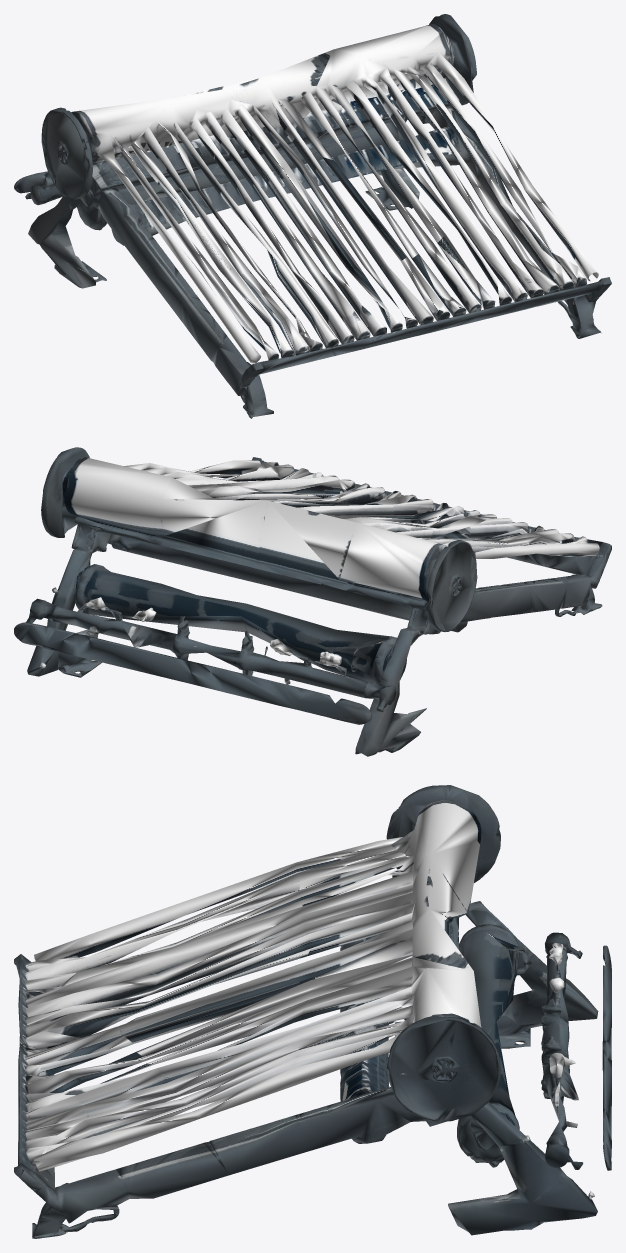
File: solar-wh.glb
3 renders of one model, top to bottom at view 1: azimuth 30°, elevation 25°; view 2: azimuth 150°, elevation 25°; view 3: azimuth 270°, elevation 25°, orthographic. The views are drawn at different scales.
Visible parts, largest first — view 1: Mesh_0; view 2: Mesh_0; view 3: Mesh_0.
Boxes of the visible parts, x1,y1,x2,y2 form: Mesh_0: [14, 14, 611, 418]; Mesh_0: [14, 447, 611, 756]; Mesh_0: [14, 785, 611, 1238].
Bounding box in the file's own units: 2.18 × 1 × 2.33.
Materials: 1 (1 with a texture image).
